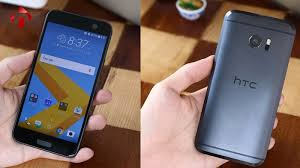htc: (11, 6, 114, 155), (194, 8, 291, 165)
